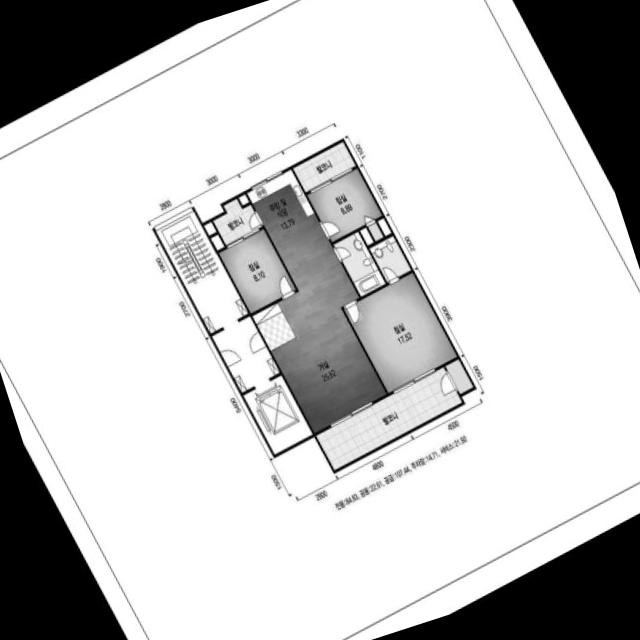background: (0, 0, 640, 640)
space_balconi: (316, 367, 462, 470), (292, 141, 355, 192), (213, 198, 262, 245)
space_bedroom: (344, 272, 456, 392), (306, 168, 383, 242)
space_elevator: (243, 375, 312, 454)
space_elevator_hall: (211, 316, 279, 392)
space_front: (252, 303, 295, 350)
space_kitchen: (247, 169, 314, 237)
space_living_room: (270, 213, 386, 433)
space_other: (445, 359, 473, 394), (359, 227, 374, 245), (377, 217, 391, 236), (210, 234, 224, 250), (203, 221, 216, 235), (238, 194, 249, 205)
space_staircase: (155, 210, 248, 333)
space_toilet: (333, 231, 385, 296), (369, 235, 411, 282)
